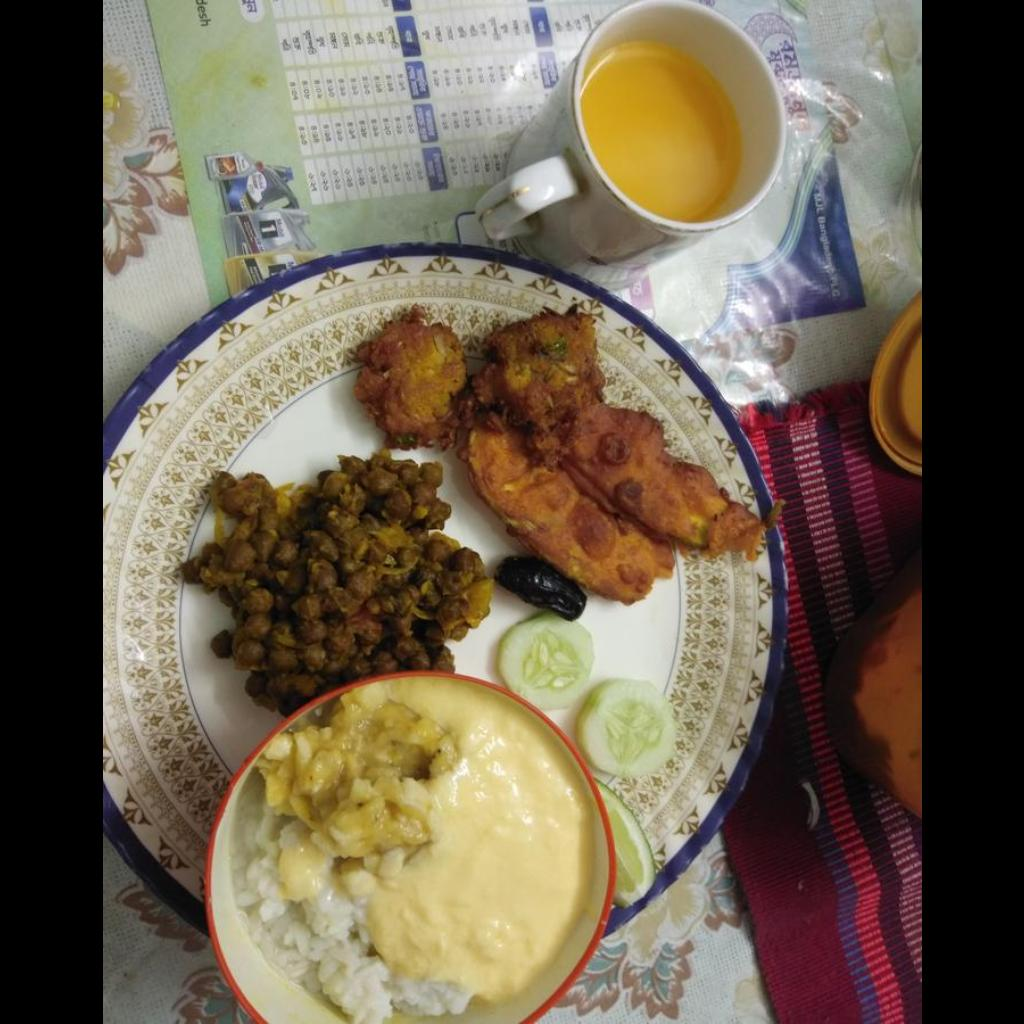beguni: (459, 404, 763, 604)
chola: (181, 449, 490, 715)
cucumber: (495, 612, 674, 778)
dates: (493, 556, 586, 619)
juice: (578, 39, 743, 214)
lemon: (596, 781, 653, 907)
payesh: (236, 678, 599, 1023)
piyaju: (356, 307, 603, 446)
